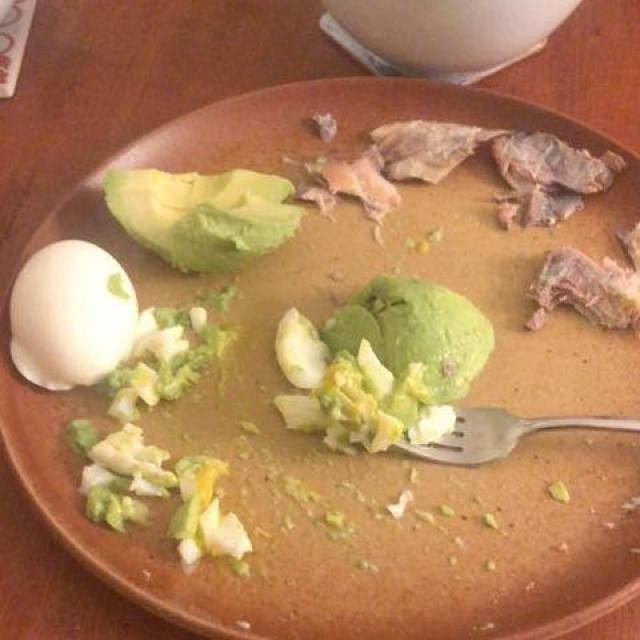avocado: (114, 190, 489, 397)
egg: (15, 248, 135, 374)
sausage: (362, 114, 636, 203)
